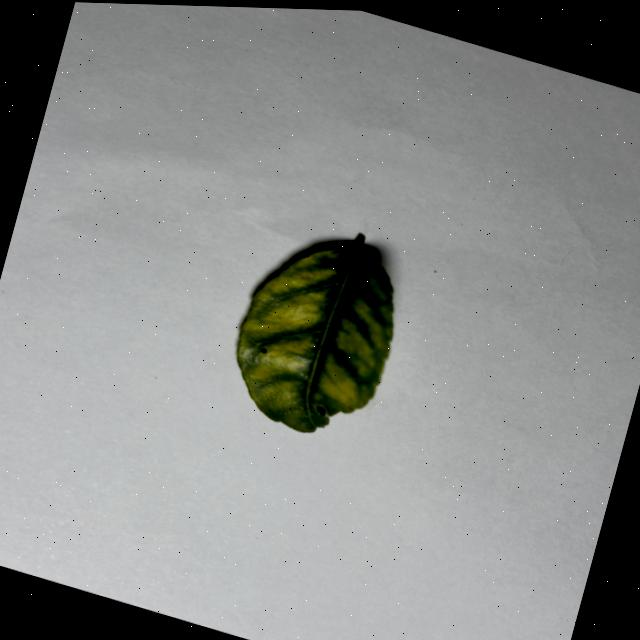greening: (237, 234, 392, 432)
